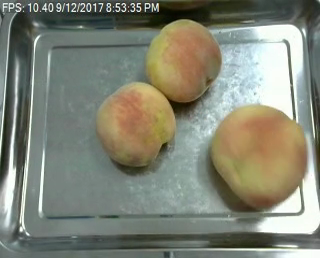Peach: (211, 103, 306, 208), (95, 81, 177, 168), (145, 18, 222, 101)
